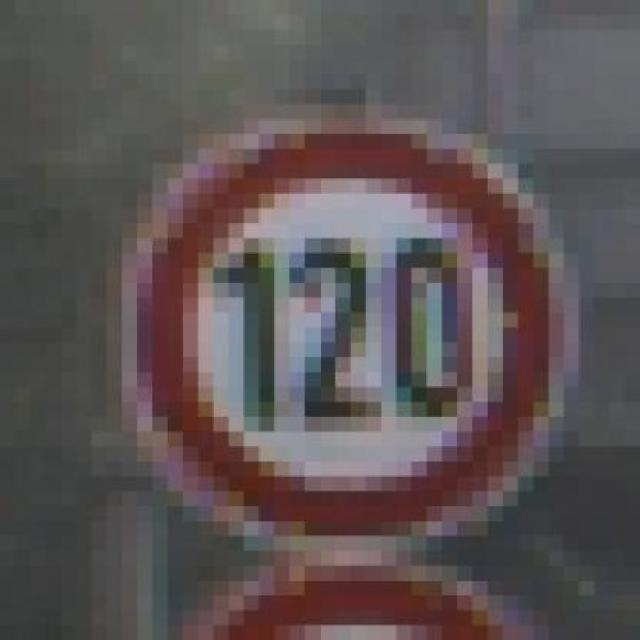forb_speed_over_120: (129, 117, 569, 546)
